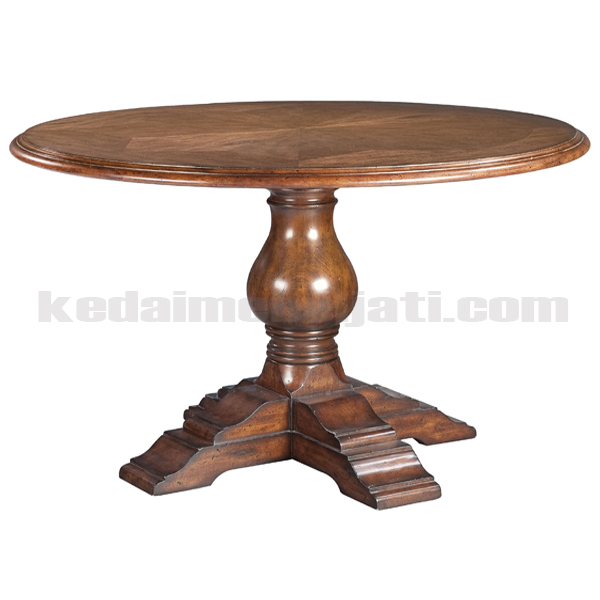Carving Table: (16, 85, 587, 521)
